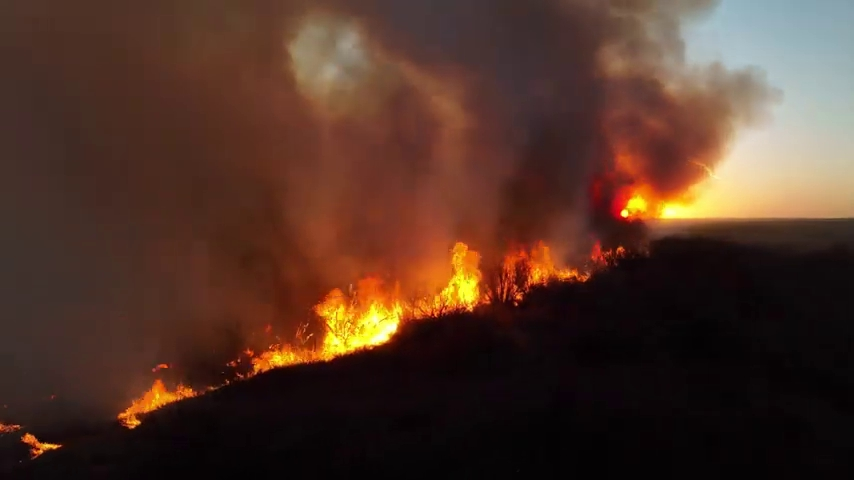forest_fire: (315, 243, 485, 357), (118, 380, 200, 428), (522, 247, 586, 283), (249, 345, 308, 375), (21, 433, 60, 457)
